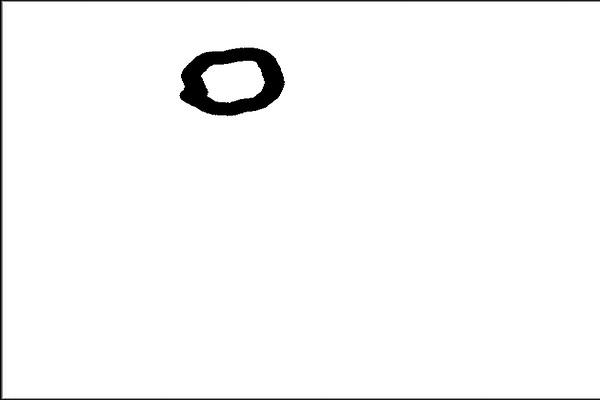O: (167, 38, 288, 119)
